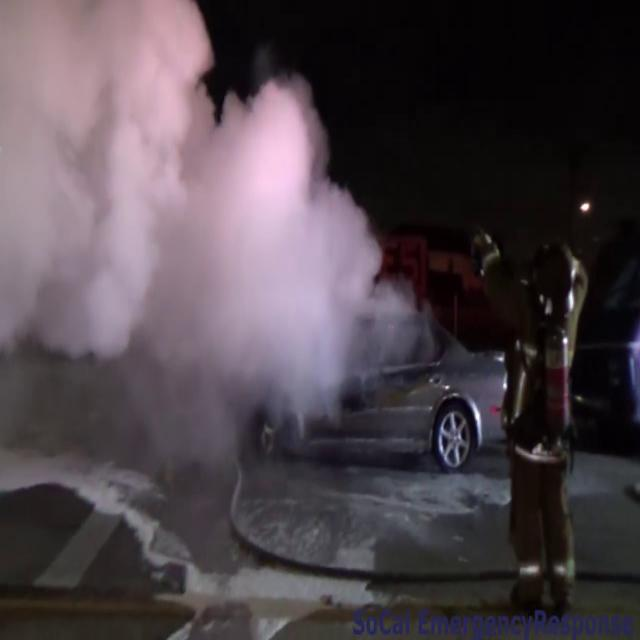Smoke: (0, 1, 400, 447)
